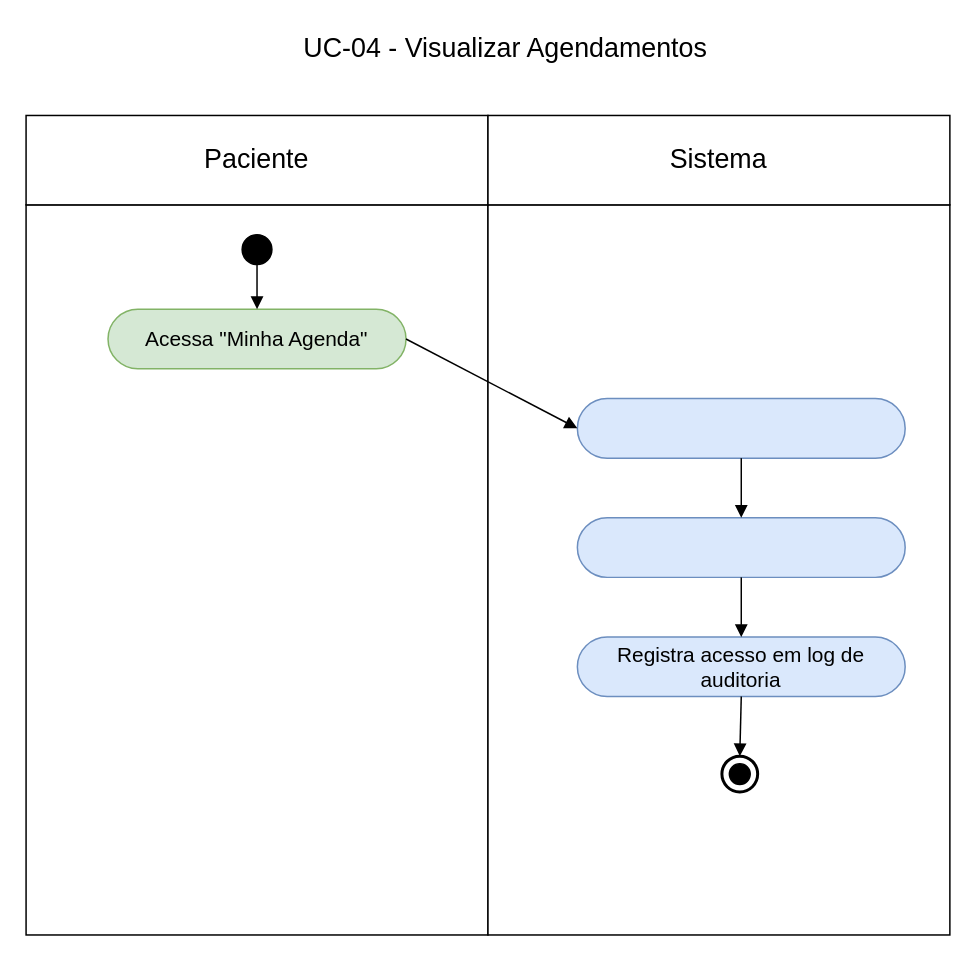
Some shapes in this 976 by 961 pixel diagram are drawn without their labels. Each missing label, with the box of its shape:
Exibe calendário com consultas agendadas: (576, 516, 905, 577)
Recupera agendamentos do paciente na Agenda: (576, 397, 905, 458)
